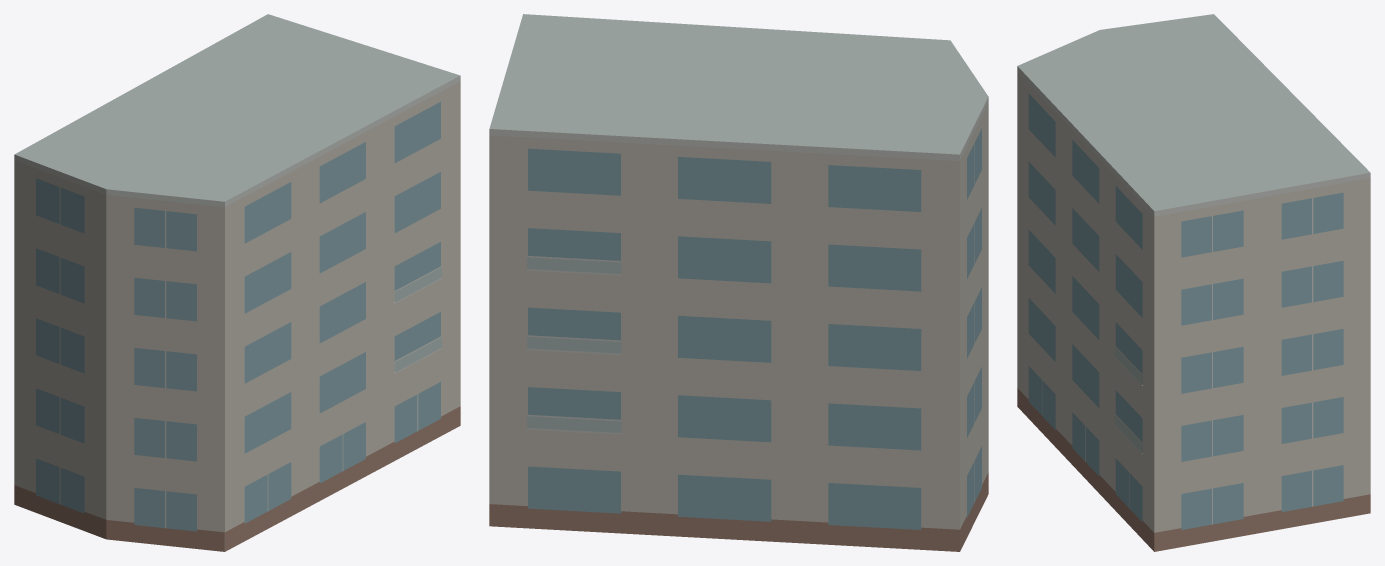
File: survey-upis-32989303.glb
The picture shows the model from 3 angles, left to right: view 1: azimuth 30°, elevation 25°; view 2: azimuth 150°, elevation 25°; view 3: azimuth 270°, elevation 25°; orthographic projection. The views are drawn at different scales.
Parts seen in each view (by area): view 1: survey-upis-32989303.tmp; view 2: survey-upis-32989303.tmp; view 3: survey-upis-32989303.tmp.
Boxes of the visible parts, bbox=[...] form: survey-upis-32989303.tmp: bbox=[14, 14, 460, 551]; survey-upis-32989303.tmp: bbox=[489, 14, 988, 551]; survey-upis-32989303.tmp: bbox=[1017, 14, 1370, 551].
Bounding box in the file's own units: 18.95 × 15.25 × 14.35.
